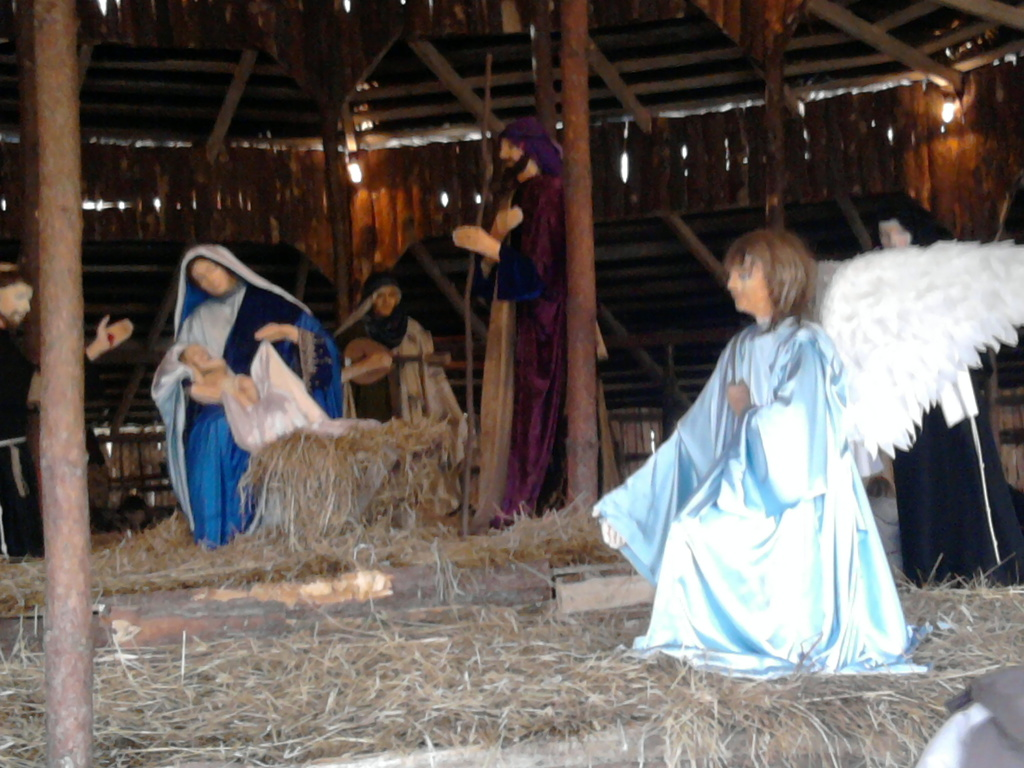Person: (589, 228, 928, 680), (451, 117, 623, 532), (870, 199, 1024, 594), (0, 263, 135, 562), (332, 270, 479, 519)
